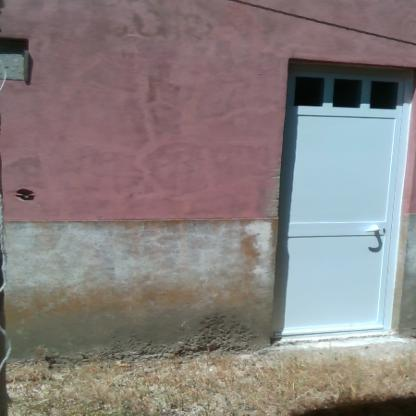door: (288, 63, 395, 336)
lever: (365, 226, 379, 234)
